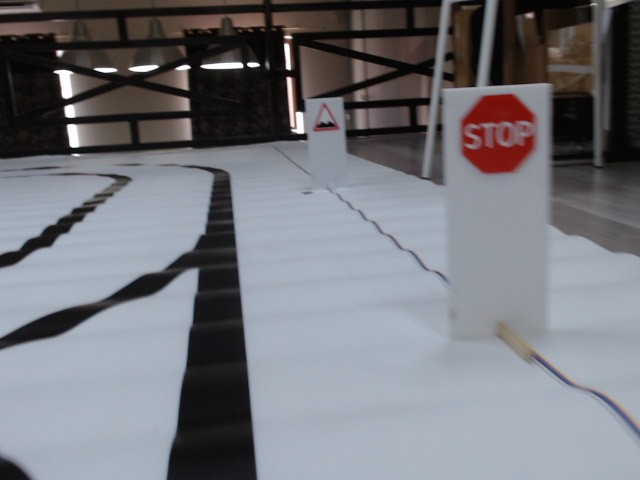Nerov: (312, 104, 343, 133)
Stop: (458, 93, 540, 178)
